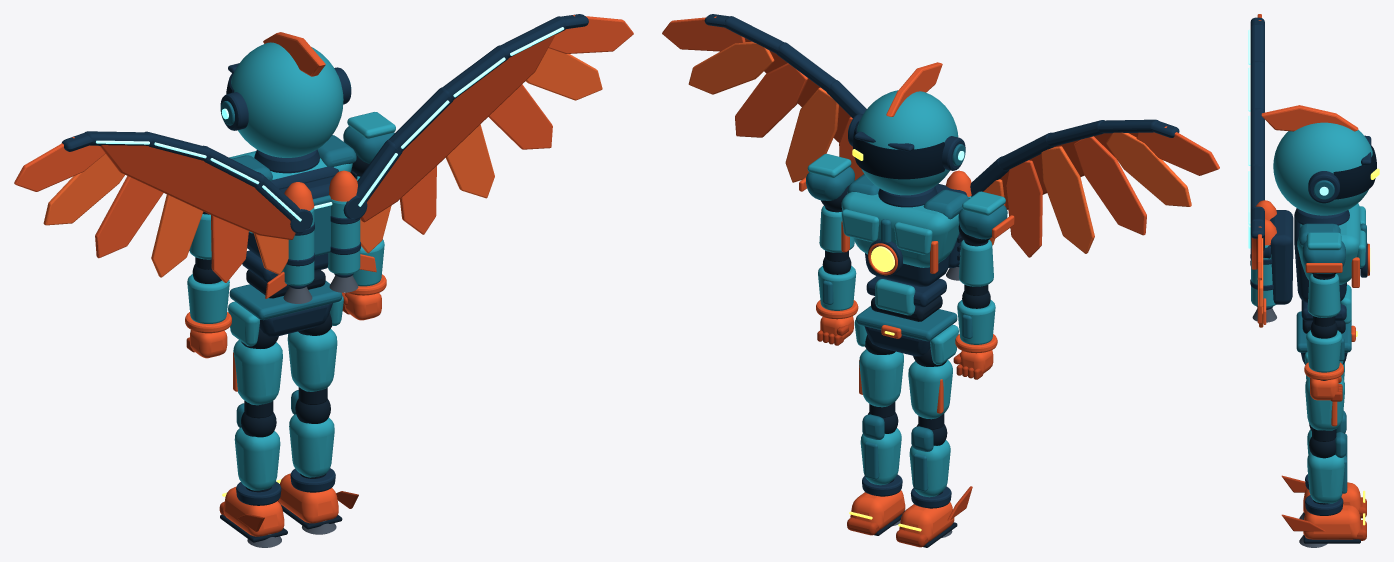
The model's file is soar-robot.glb.
3 views of the same model, side by side, from view 1: azimuth 30°, elevation 25°; view 2: azimuth 150°, elevation 25°; view 3: azimuth 270°, elevation 25° (orthographic). The views are drawn at different scales.
Parts seen in each view (by area): view 1: helmet, wing_covert_-1, wing_covert_1, wing_feather_-1_2, wing_feather_-1_1, wing_feather_-1_3, thigh_-1, thigh_1, wing_feather_1_2, wing_feather_1_1, wing_feather_-1_0, shin_1 (+34 smaller); view 2: helmet, chest, wing_feather_-1_2, wing_feather_-1_3, wing_feather_1_2, wing_feather_1_3, wing_feather_-1_1, wing_feather_1_1, wing_feather_-1_4, visor, thigh_1, thigh_-1 (+33 smaller); view 3: helmet, pack, shin_1, head_fin, boot_1, upper_arm_1, chest, forearm_1, thigh_1, visor, wing_spar_-1_1, wing_spar_-1_2 (+36 smaller).
Part boxes in pixels (<box>): helmet: <box>231,42,343,157</box>; wing_covert_-1: <box>100,145,295,239</box>; wing_covert_1: <box>360,34,555,222</box>; wing_feather_-1_2: <box>95,176,163,258</box>; wing_feather_-1_1: <box>43,154,124,225</box>; wing_feather_-1_3: <box>151,194,203,277</box>; thigh_-1: <box>233,340,282,405</box>; thigh_1: <box>287,329,337,391</box>; wing_feather_1_2: <box>488,84,552,149</box>; wing_feather_1_1: <box>526,48,602,100</box>; wing_feather_-1_0: <box>14,137,105,191</box>; shin_1: <box>289,414,334,477</box>; helmet: <box>857,90,958,195</box>; chest: <box>841,192,959,267</box>; wing_feather_-1_2: <box>1074,136,1146,235</box>; wing_feather_-1_3: <box>1041,146,1094,253</box>; wing_feather_1_2: <box>735,63,807,137</box>; wing_feather_1_3: <box>785,87,838,182</box>; wing_feather_-1_1: <box>1106,132,1191,206</box>; wing_feather_1_1: <box>688,41,774,94</box>; wing_feather_-1_4: <box>1005,160,1042,257</box>; visor: <box>853,121,944,179</box>; thigh_1: <box>859,349,903,407</box>; thigh_-1: <box>908,360,952,419</box>; helmet: <box>1273,122,1372,215</box>; pack: <box>1270,210,1293,304</box>; shin_1: <box>1307,452,1344,503</box>; head_fin: <box>1261,105,1358,131</box>; boot_1: <box>1303,505,1361,539</box>; upper_arm_1: <box>1307,273,1340,317</box>; chest: <box>1297,203,1360,284</box>; forearm_1: <box>1306,330,1342,372</box>; thigh_1: <box>1305,376,1344,430</box>; visor: <box>1333,145,1376,199</box>; wing_spar_-1_1: <box>1250,108,1264,166</box>; wing_spar_-1_2: <box>1250,61,1264,111</box>.
Size of the model in its own units: 2.96 by 2.3 by 0.6422.
